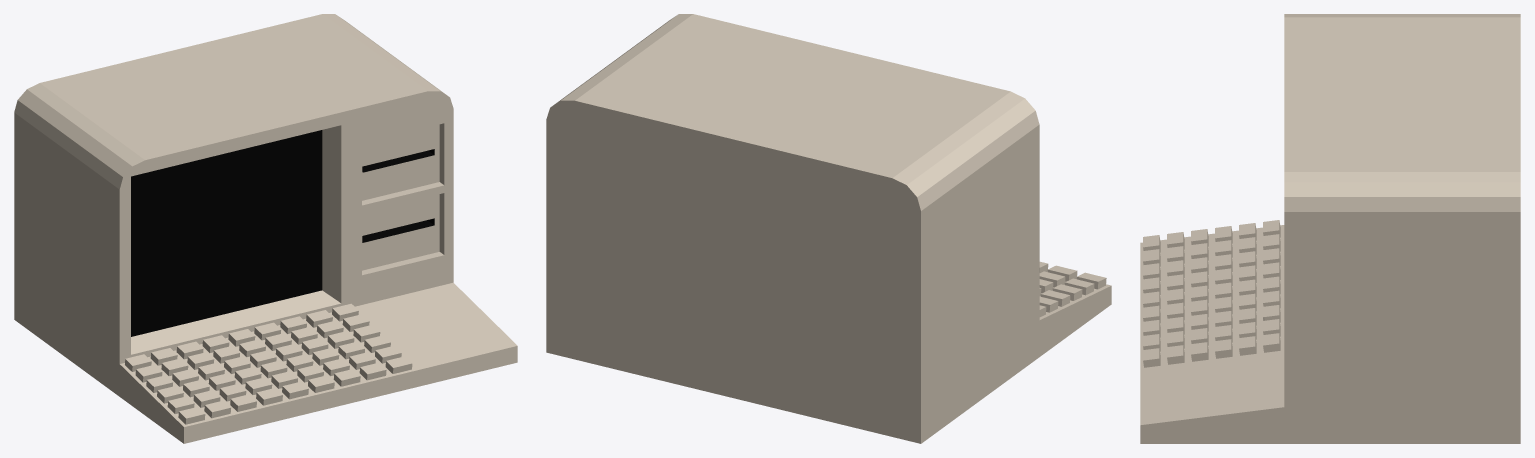
File: Terminal.fbx
The picture shows the model from 3 angles, left to right: view 1: azimuth 30°, elevation 25°; view 2: azimuth 150°, elevation 25°; view 3: azimuth 270°, elevation 25°; orthographic projection. The views are drawn at different scales.
Visible parts, largest first — view 1: Terminal; view 2: Terminal; view 3: Terminal.
Part boxes in pixels (x1,y1,x2,y2): Terminal: (14,14,517,443); Terminal: (546,14,1111,443); Terminal: (1140,14,1520,443).
Size of the model in its own units: 365 by 241 by 322.
1 material, 1 textured.
